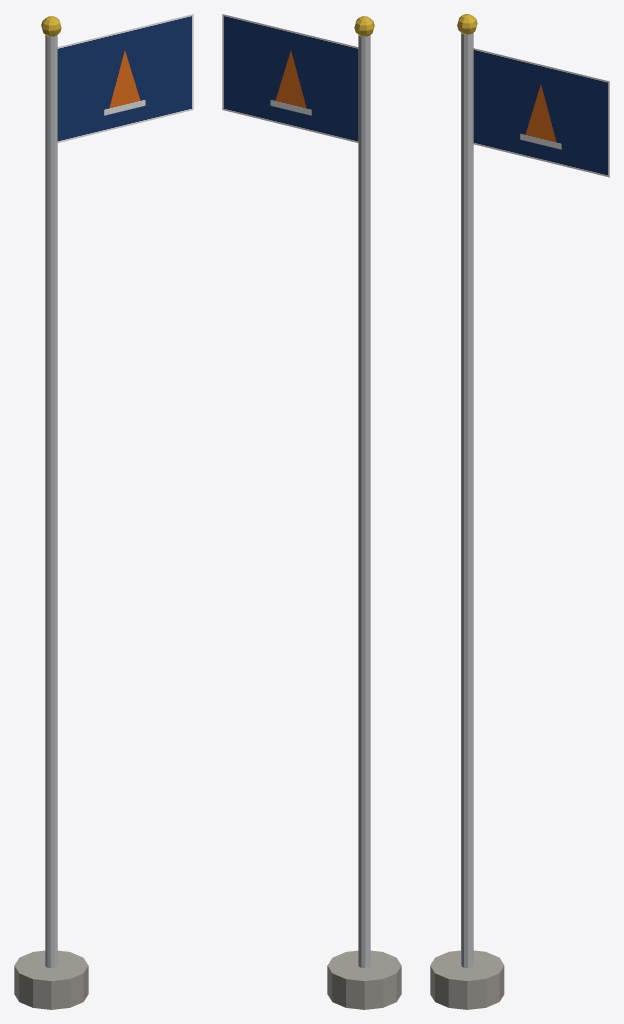
Rendered from cityhall_flagpole_10m.glb.
3 views of the same model, side by side, from view 1: azimuth 30°, elevation 25°; view 2: azimuth 150°, elevation 25°; view 3: azimuth 330°, elevation 25° (orthographic).
Parts seen in each view (by area): view 1: flag_cloth, flagpole-col, flagpole_base; view 2: flag_cloth, flagpole-col, flagpole_base; view 3: flag_cloth, flagpole-col, flagpole_base.
Part boxes in pixels (x1=…): flag_cloth: x1=57, y1=14, x2=193, y2=142; flagpole-col: x1=45, y1=35, x2=57, y2=967; flagpole_base: x1=14, y1=950, x2=88, y2=1009; flag_cloth: x1=222, y1=14, x2=358, y2=142; flagpole-col: x1=358, y1=35, x2=370, y2=967; flagpole_base: x1=327, y1=950, x2=401, y2=1009; flag_cloth: x1=472, y1=48, x2=609, y2=177; flagpole-col: x1=461, y1=32, x2=473, y2=967; flagpole_base: x1=430, y1=950, x2=504, y2=1009.
Size of the model in its own units: 1.9 by 10.18 by 0.7.
4 materials, 1 textured.
